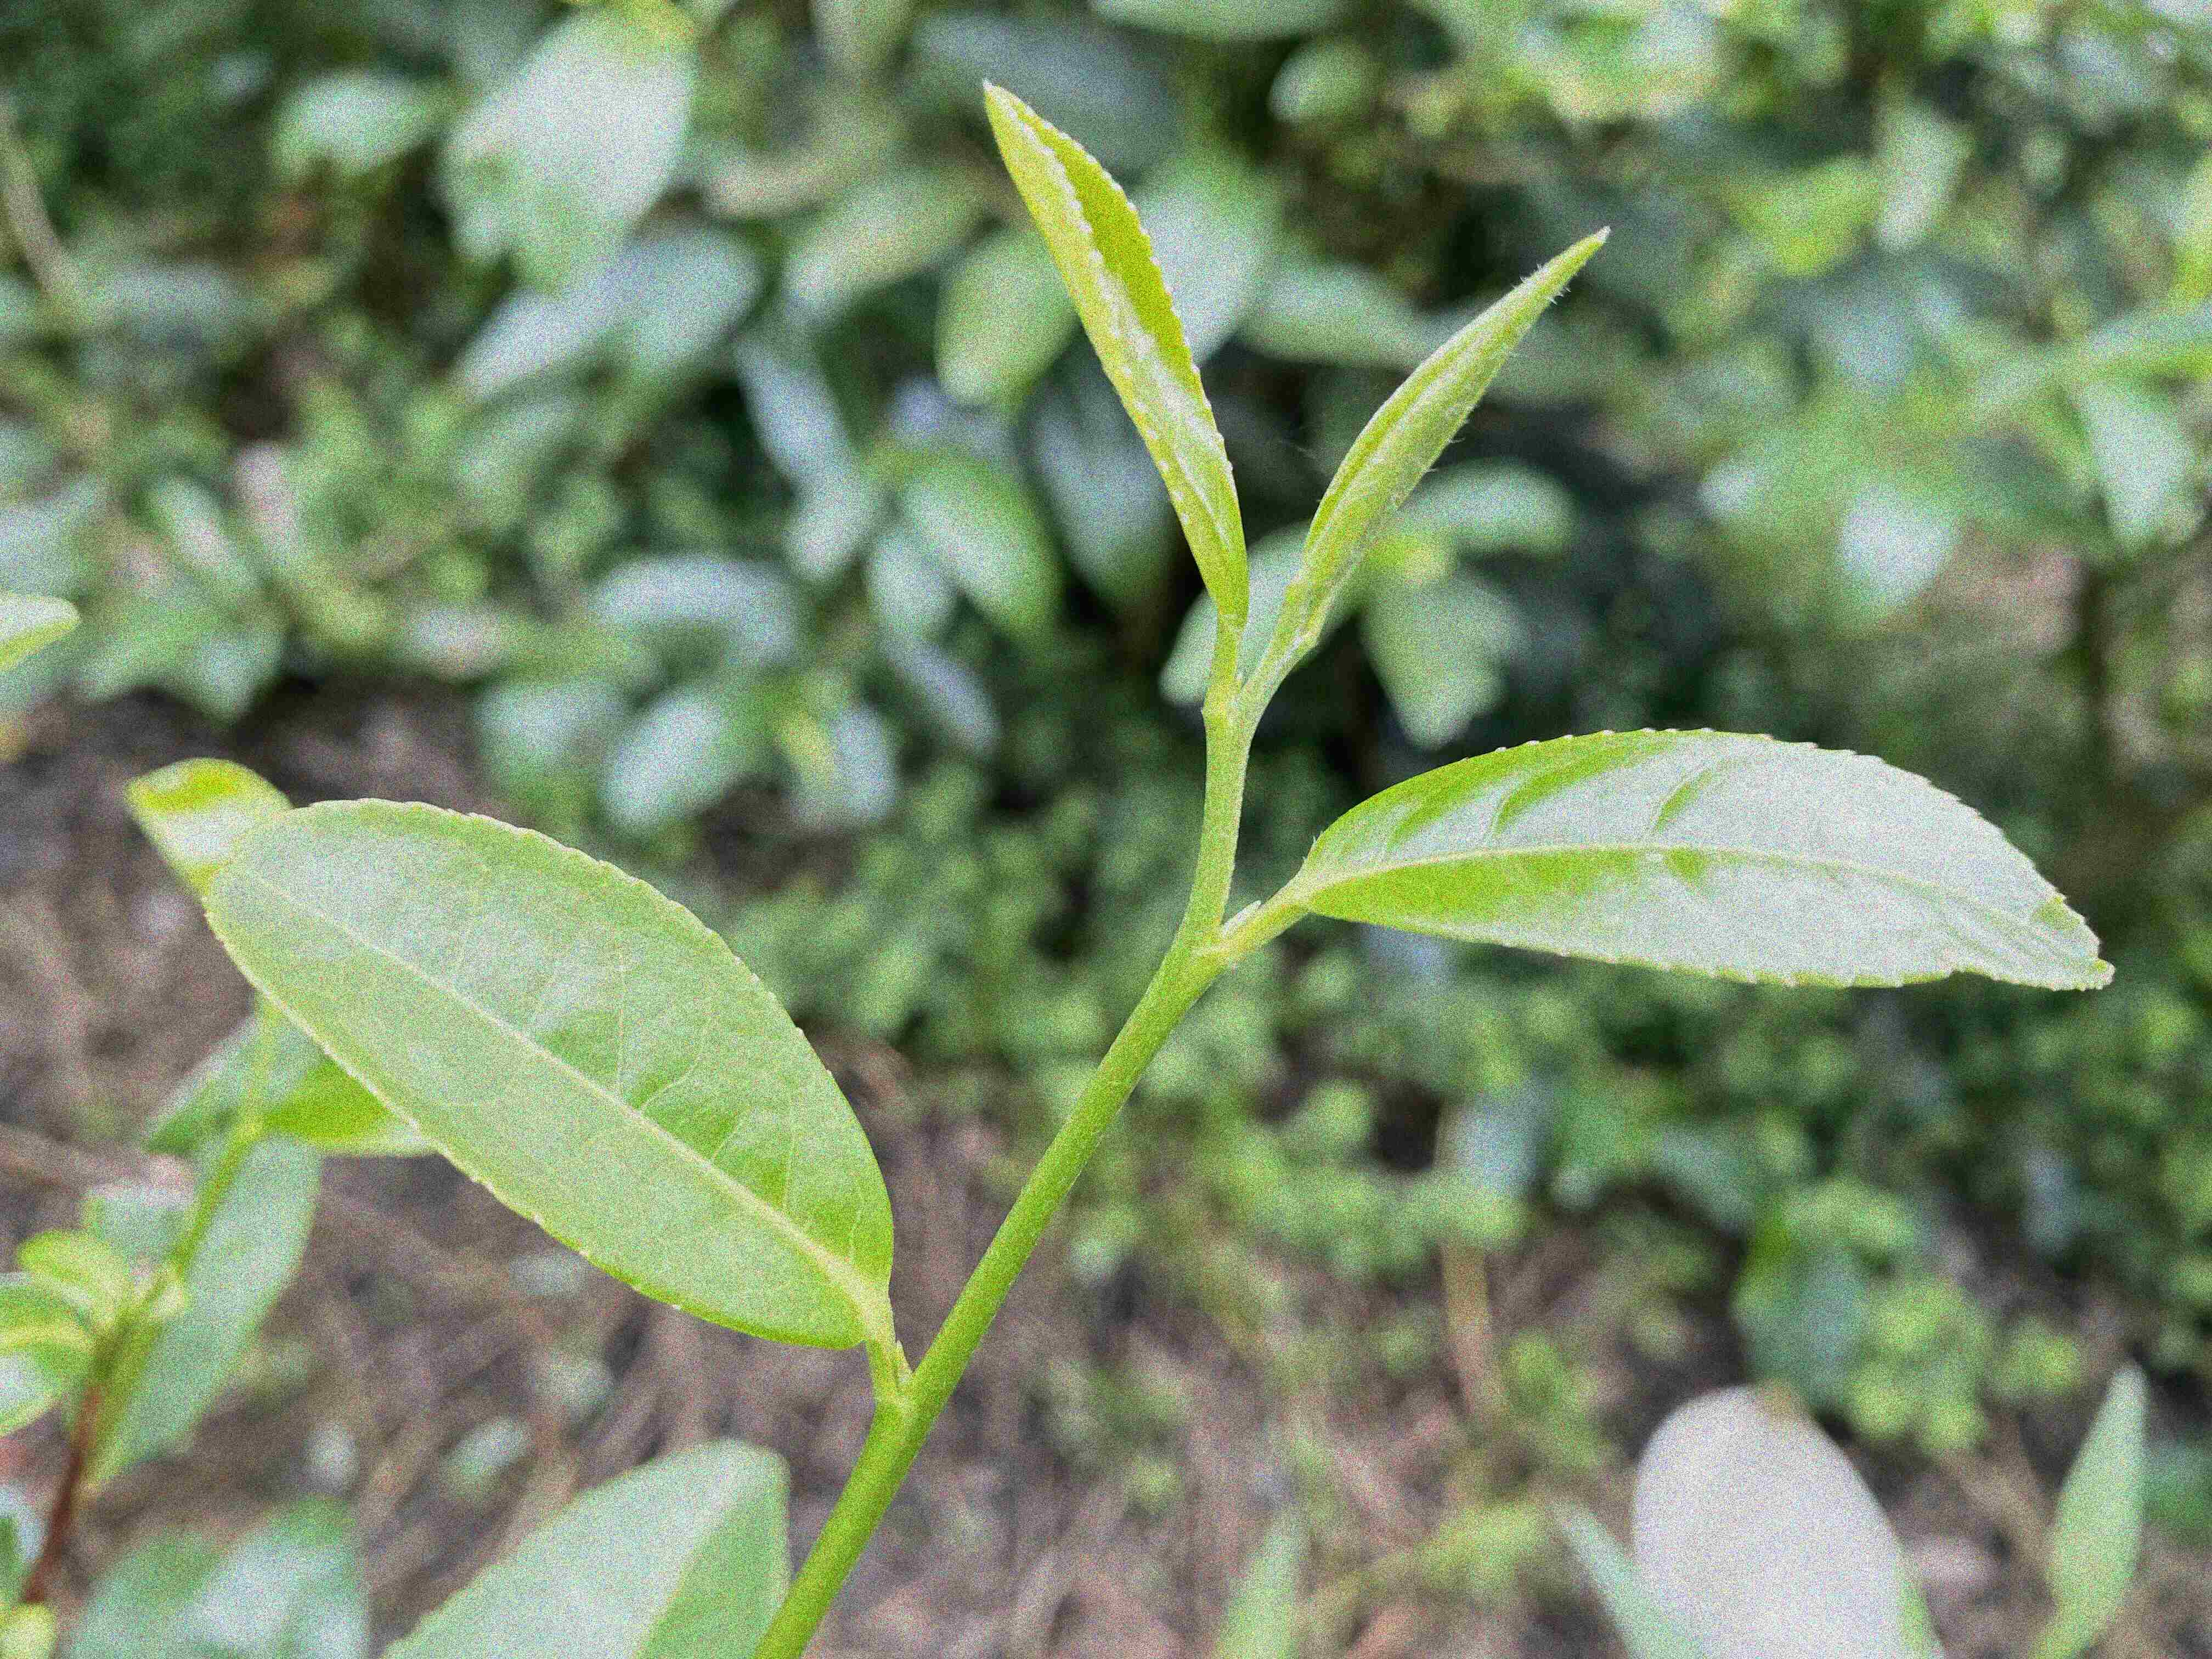healthy: (200, 789, 897, 1351), (1305, 727, 2116, 993)
